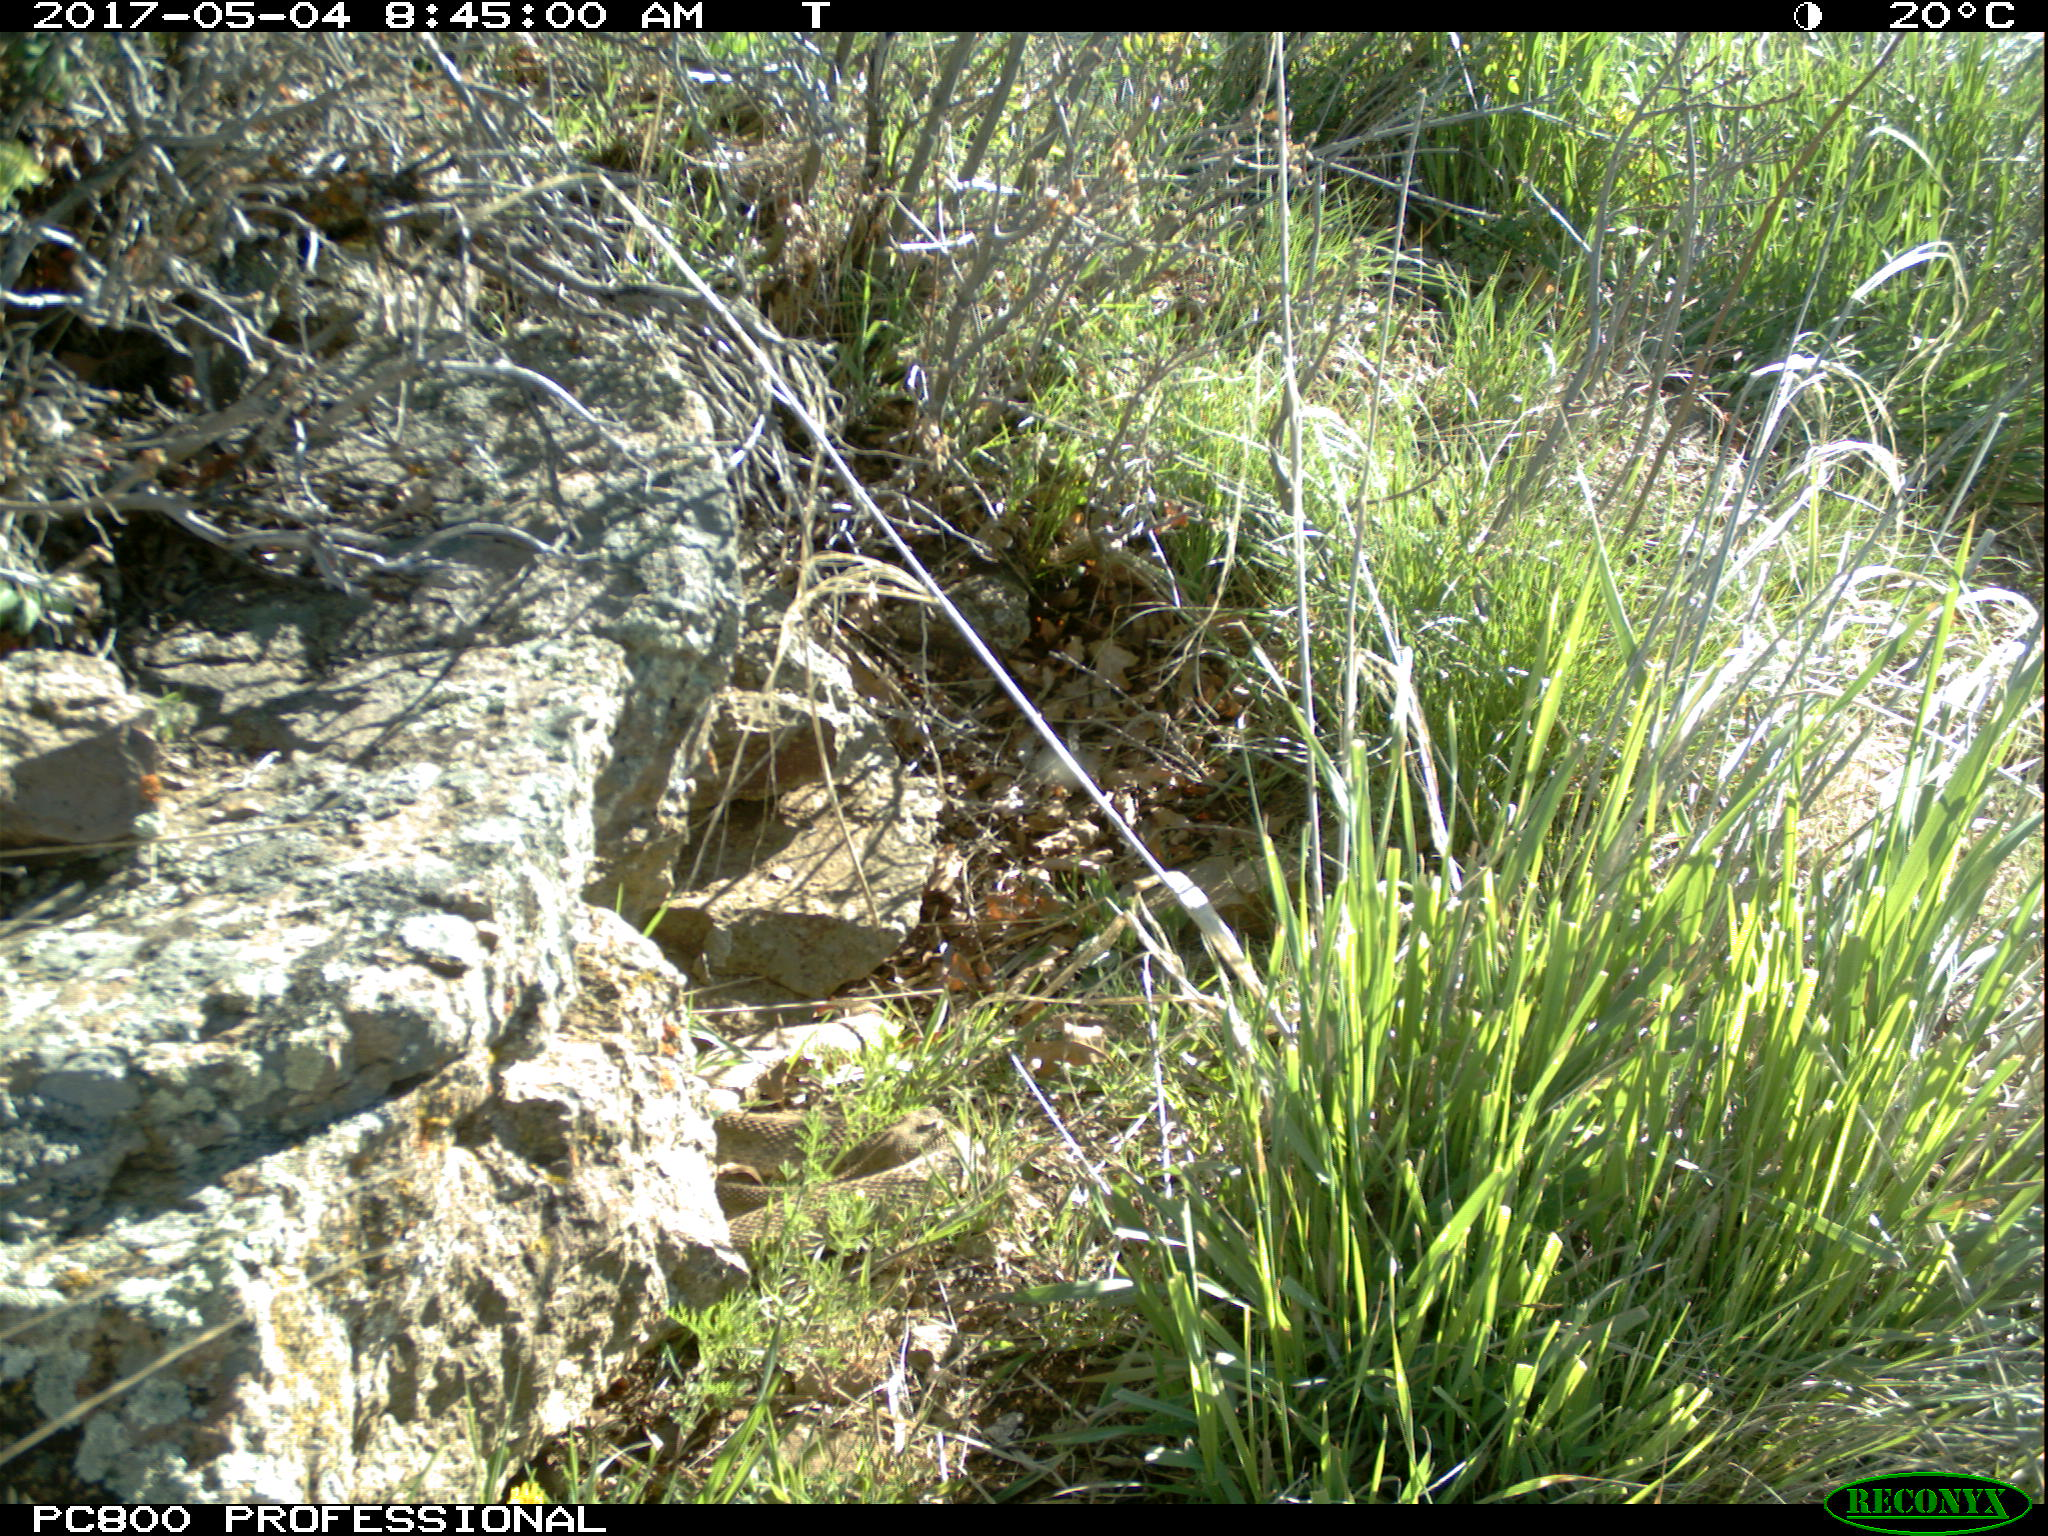snake: (701, 1097, 1013, 1268)
